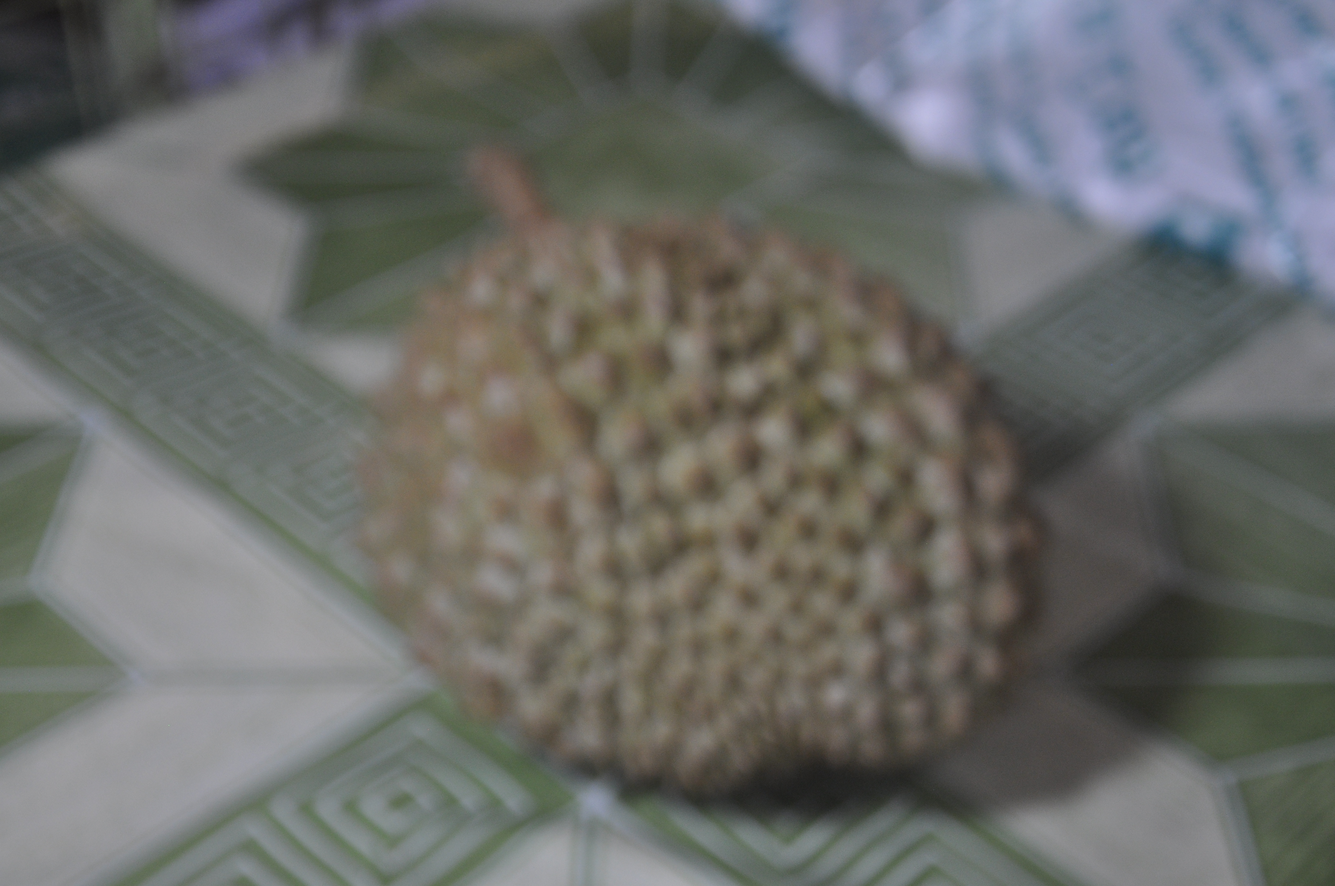mature: (325, 103, 1096, 817)
